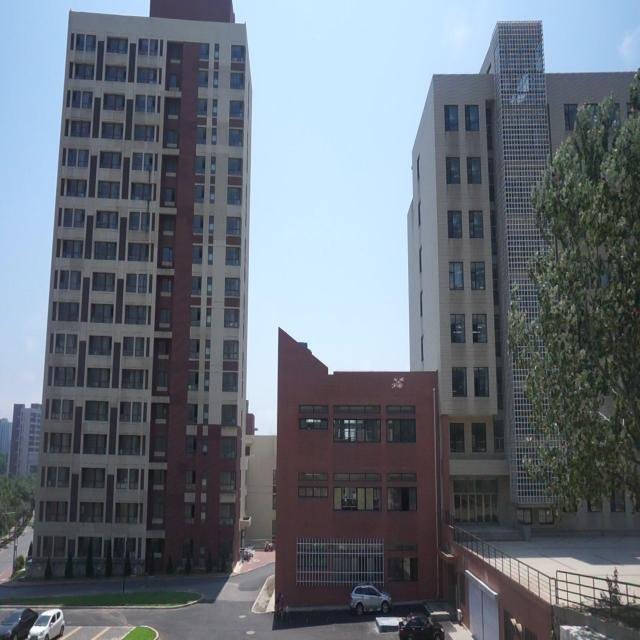drone: (390, 372, 406, 394)
